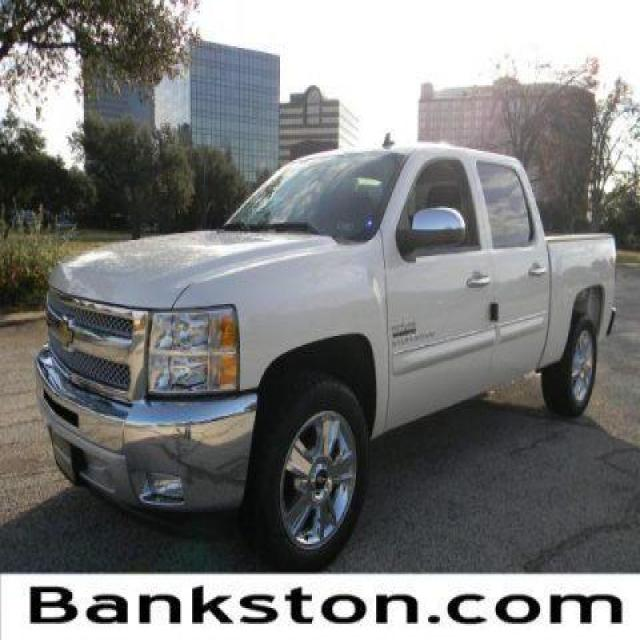Car: (33, 92, 618, 538)
